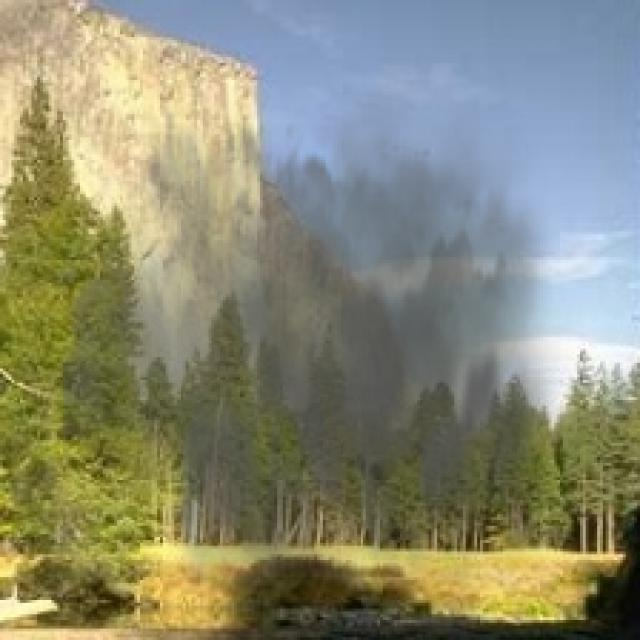smoke: (63, 57, 583, 609)
